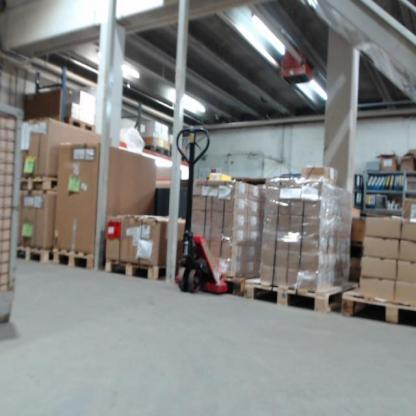pallets: (17, 242, 174, 282), (340, 290, 416, 326), (292, 286, 348, 313), (242, 278, 284, 304), (20, 175, 58, 191), (143, 136, 169, 155), (21, 246, 46, 262), (71, 119, 94, 131)
